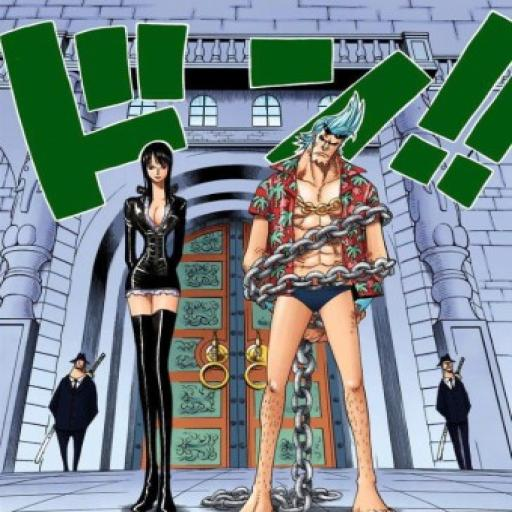NicoRobin: (131, 123, 184, 224)
